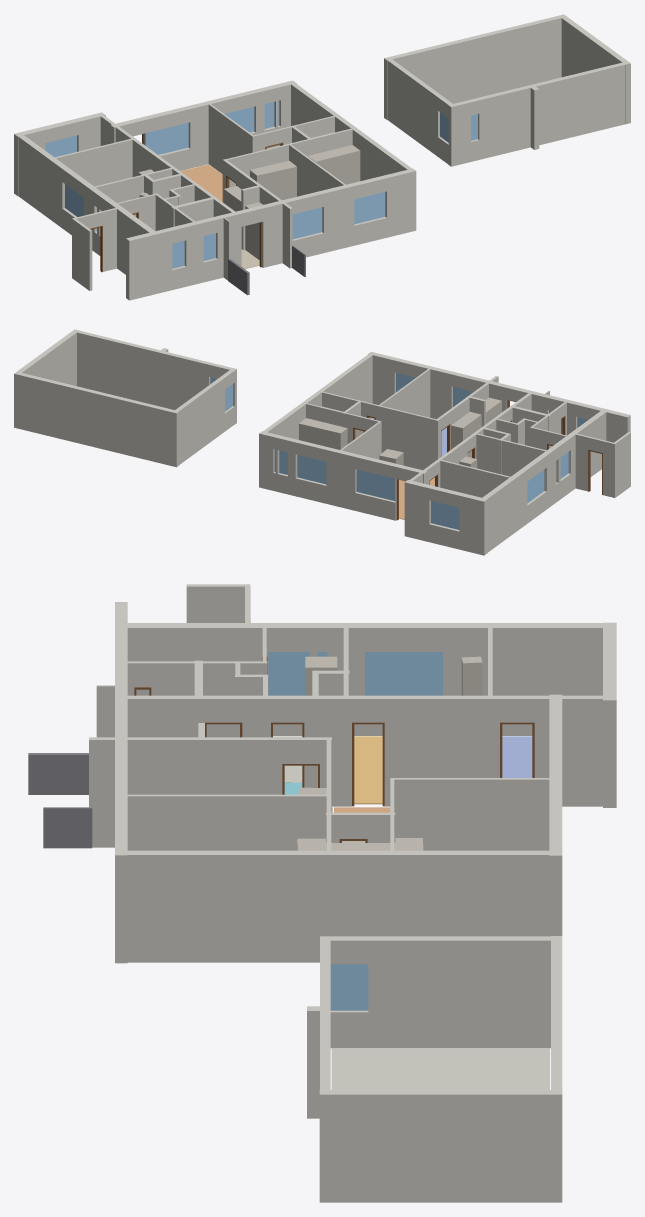
3 views of the same model, one above another, from view 1: azimuth 30°, elevation 25°; view 2: azimuth 150°, elevation 25°; view 3: azimuth 270°, elevation 25° (orthographic). The views are drawn at different scales.
Visible parts, largest first — view 1: walls, furniture_1_closet, furniture_6_closet, window_3, railings, window_6, floor_2_Living_Room, window_12, furniture_8_closet, window_2, window_1, window_0; view 2: walls, furniture_1_closet, window_3, furniture_7_closet, window_1, window_2, window_0; view 3: walls, floor_1_Undefined, railings, window_0, floor_6_Kitchen, window_14, window_16, floor_0_Bed_Room, furniture_1_closet, furniture_0_closet.
Part boxes in pixels (box(x1,y1,x2,y2)): walls: box(14, 14, 630, 300); furniture_1_closet: box(279, 132, 360, 184); furniture_6_closet: box(250, 161, 296, 200); window_3: box(146, 122, 188, 154); railings: box(228, 245, 305, 295); window_6: box(354, 192, 385, 224); floor_2_Living_Room: box(181, 164, 222, 201); window_12: box(292, 207, 322, 239); furniture_8_closet: box(245, 202, 262, 259); window_2: box(45, 135, 76, 157); window_1: box(225, 107, 254, 132); window_0: box(65, 184, 83, 216); walls: box(14, 329, 630, 555); furniture_1_closet: box(299, 406, 371, 449); window_3: box(356, 469, 395, 500); furniture_7_closet: box(451, 412, 481, 457); window_1: box(297, 455, 326, 484); window_2: box(431, 501, 459, 529); window_0: box(527, 470, 544, 503); walls: box(89, 584, 616, 1202); floor_1_Undefined: box(331, 1048, 549, 1089); railings: box(28, 753, 92, 848); window_0: box(365, 652, 442, 695); floor_6_Kitchen: box(354, 736, 382, 804); window_14: box(330, 964, 368, 1010); window_16: box(268, 652, 309, 695); floor_0_Bed_Room: box(502, 736, 532, 777); furniture_1_closet: box(297, 838, 423, 850); furniture_0_closet: box(461, 656, 482, 695).
Size of the model in its own units: 27.4 by 2.72 by 13.35.
